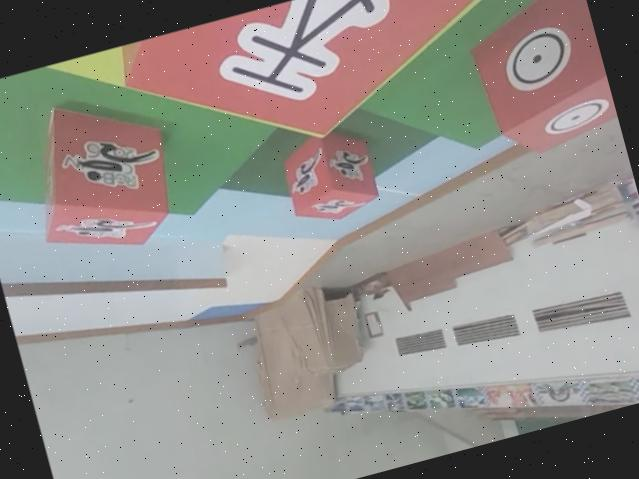R1: (11, 82, 187, 270), (275, 123, 384, 231)
R2 Real: (111, 0, 526, 186), (457, 0, 621, 163)
